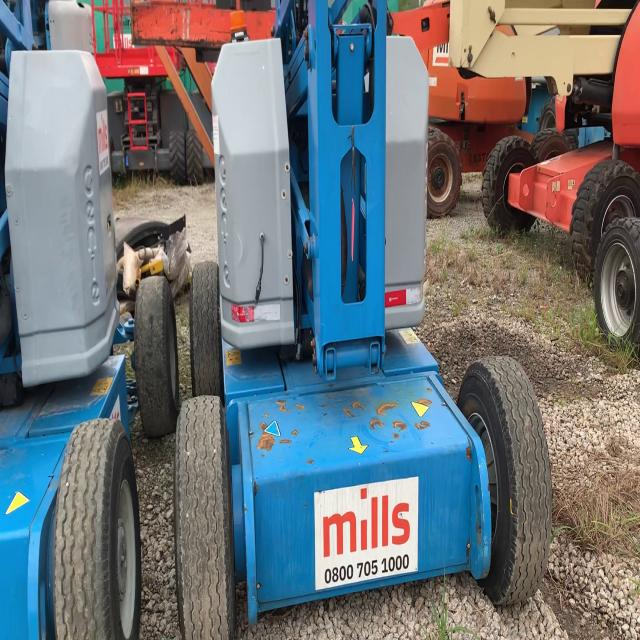Adesivos: (314, 474, 419, 592)
